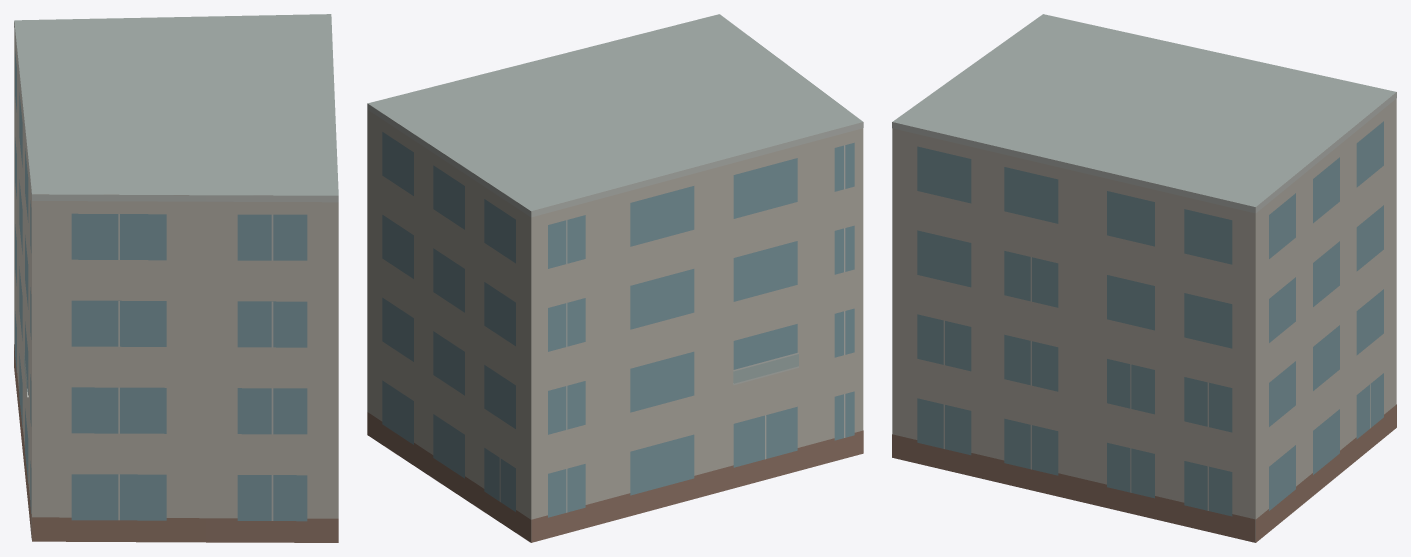
The model's file is survey-upis-32876845.glb.
3 renders of one model, left to right at view 1: azimuth 30°, elevation 25°; view 2: azimuth 150°, elevation 25°; view 3: azimuth 270°, elevation 25°, orthographic. The views are drawn at different scales.
Visible parts, largest first — view 1: survey-upis-32876845.tmp; view 2: survey-upis-32876845.tmp; view 3: survey-upis-32876845.tmp.
Part boxes in pixels (x1,y1,x2,y2): survey-upis-32876845.tmp: (14, 14, 338, 542); survey-upis-32876845.tmp: (367, 14, 863, 542); survey-upis-32876845.tmp: (892, 14, 1396, 542).
Bounding box in the file's own units: 16.05 × 13 × 17.72.
